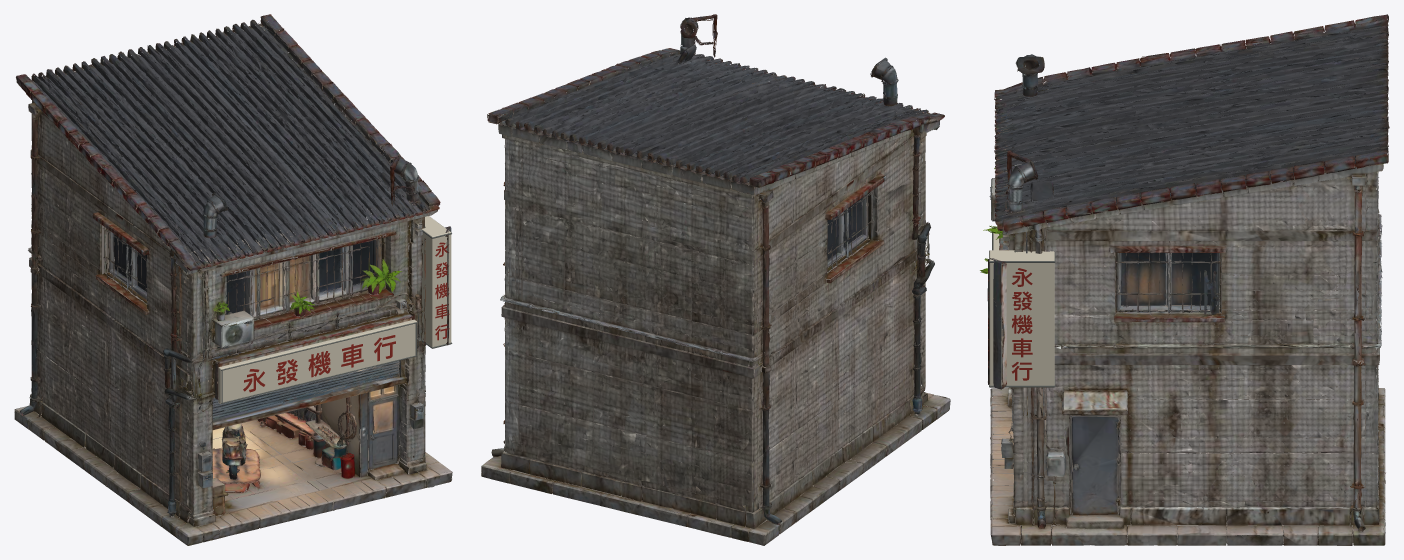
Rendered from runner-shop-02.glb.
The picture shows the model from 3 angles, left to right: view 1: azimuth 30°, elevation 25°; view 2: azimuth 150°, elevation 25°; view 3: azimuth 270°, elevation 25°; orthographic projection. The views are drawn at different scales.
Parts seen in each view (by area): view 1: motorcycle-shop-v1; view 2: motorcycle-shop-v1; view 3: motorcycle-shop-v1.
Boxes of the visible parts, bbox=[...] form: motorcycle-shop-v1: bbox=[14, 14, 452, 545]; motorcycle-shop-v1: bbox=[481, 14, 950, 545]; motorcycle-shop-v1: bbox=[980, 14, 1389, 545].
Size of the model in its own units: 4.82 by 5.8 by 5.56.
Materials: 4 (1 with a texture image).
